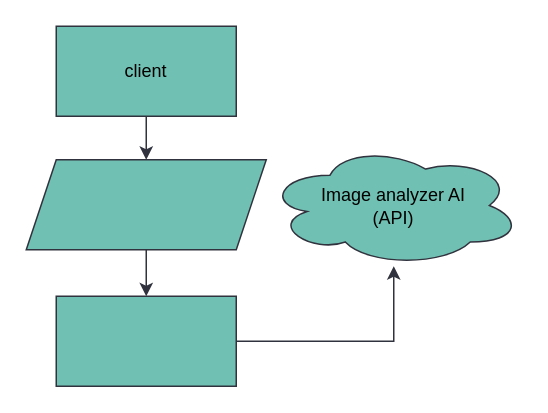
Some shapes in this 548 by 413 pixel diagram are drawn without their labels. Each missing label, with the centre of its shape:
Rest API: the point at 145,204
Server: the point at 145,340
